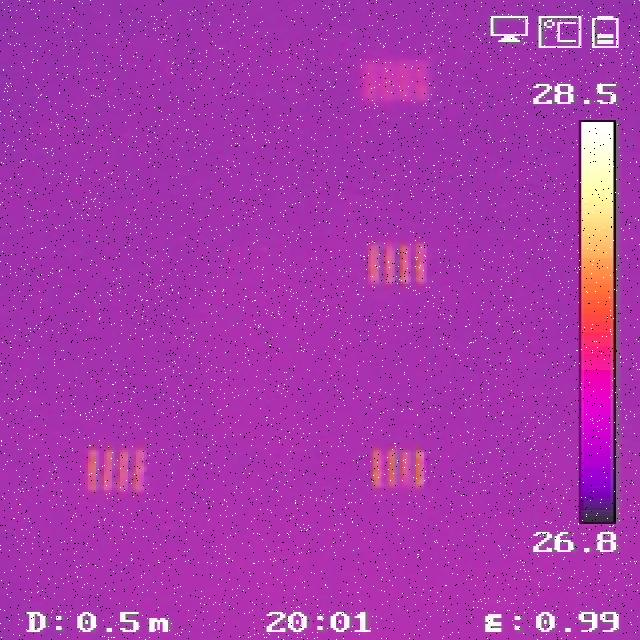Distinguishable 4-bar target: (79, 443, 148, 495), (361, 239, 431, 290), (372, 445, 429, 489)
threshold 4-bar target: (363, 55, 433, 105)
